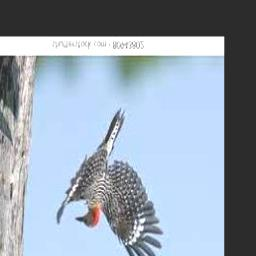Woodpecker: (57, 109, 164, 256)
